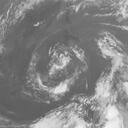cyclone: (29, 40, 88, 100)
